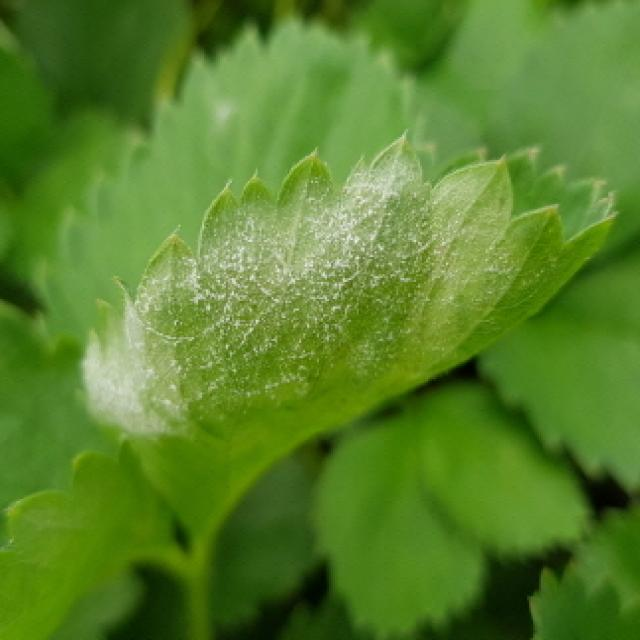Powdery Mildew Leaf: (73, 126, 621, 540)
